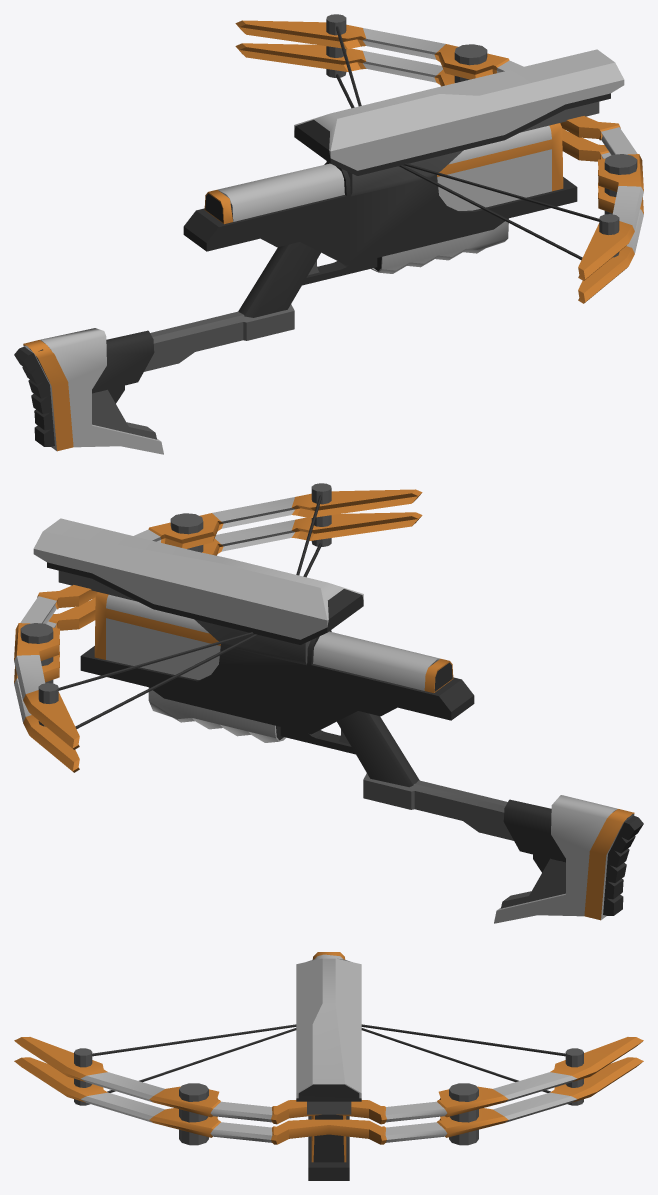
File: g_xbow.glb
3 renders of one model, top to bottom at view 1: azimuth 30°, elevation 25°; view 2: azimuth 150°, elevation 25°; view 3: azimuth 270°, elevation 25°, orthographic. The views are drawn at different scales.
Parts seen in each view (by area): view 1: Crossbow_1; view 2: Crossbow_1; view 3: Crossbow_1.
Part boxes in pixels (<box>): Crossbow_1: <box>14,14,643,454</box>; Crossbow_1: <box>14,483,643,923</box>; Crossbow_1: <box>14,952,643,1180</box>.
Bounding box in the file's own units: 1.86 × 0.881 × 1.92.
